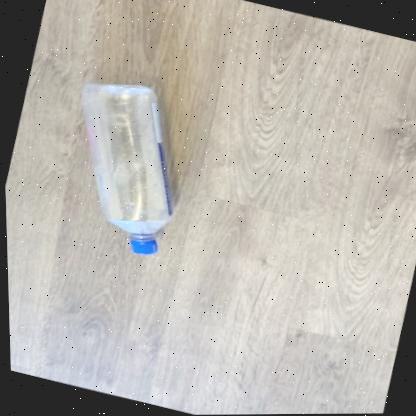Plastic: (79, 84, 168, 256)
